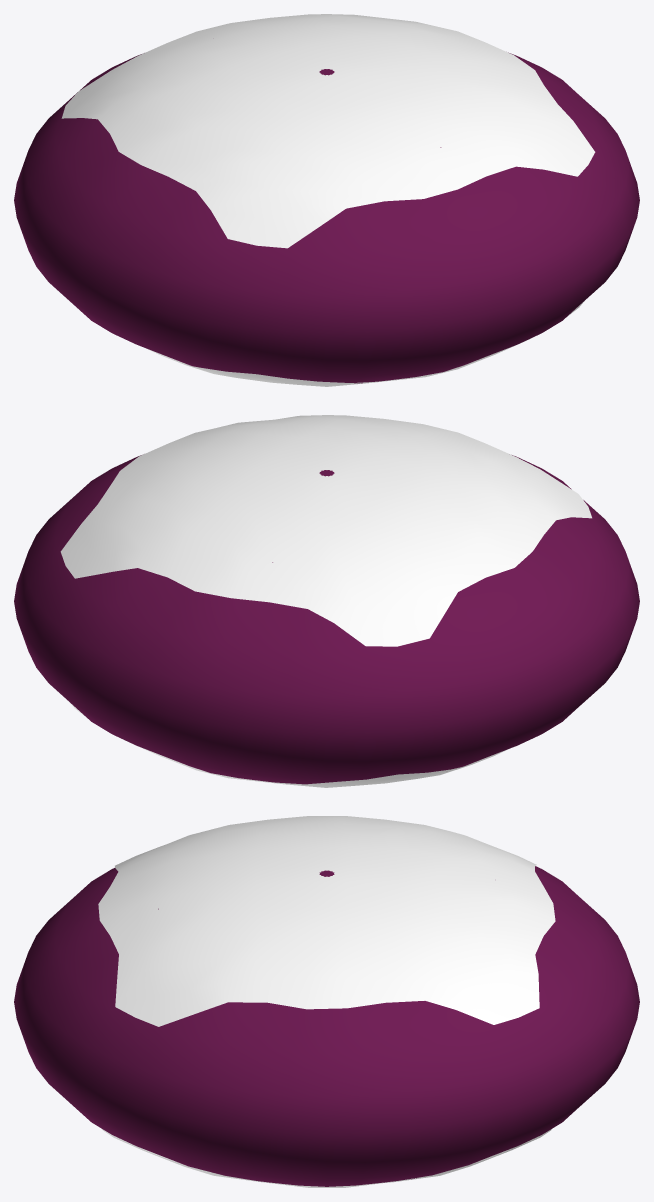
File: yy巧克力_紫色.glb
3 renders of one model, top to bottom at view 1: azimuth 30°, elevation 25°; view 2: azimuth 150°, elevation 25°; view 3: azimuth 270°, elevation 25°, orthographic.
Visible parts, largest first — view 1: Cube, y, y.001; view 2: Cube, y, y.001; view 3: Cube, y, y.001.
Part boxes in pixels (<box>): Cube: <box>14,52,639,383</box>; y: <box>61,14,595,248</box>; y.001: <box>146,301,584,386</box>; Cube: <box>14,455,639,784</box>; y: <box>60,415,591,646</box>; y.001: <box>68,701,507,787</box>; Cube: <box>14,866,639,1186</box>; y: <box>98,816,555,1026</box>; y.001: <box>102,1129,551,1187</box>.
Bounding box in the file's own units: 3.39 × 1.54 × 3.39.
2 materials, 1 textured.
